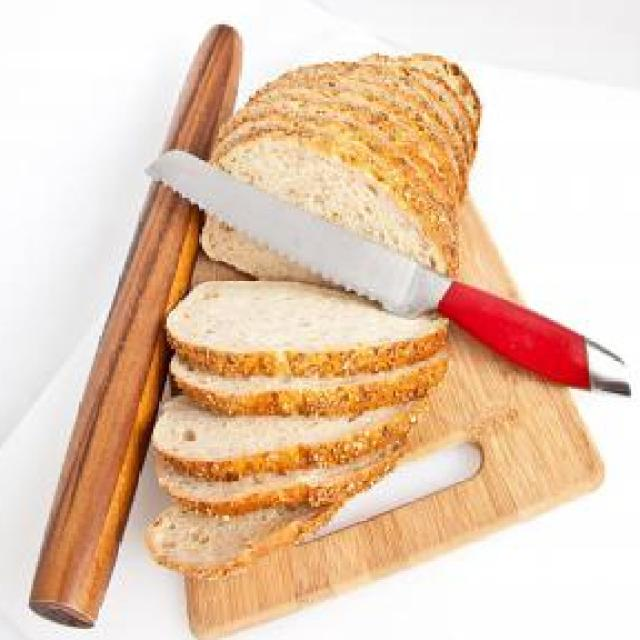knife: (142, 149, 631, 399)
